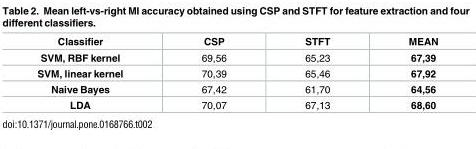table: (36, 36, 437, 110)
table column: (36, 36, 161, 110), (161, 36, 265, 110), (265, 36, 368, 110), (368, 36, 437, 110)
table column header: (36, 36, 437, 49)
table row: (36, 49, 437, 65), (36, 65, 437, 81), (36, 81, 437, 97), (36, 36, 437, 49), (36, 97, 437, 110)
